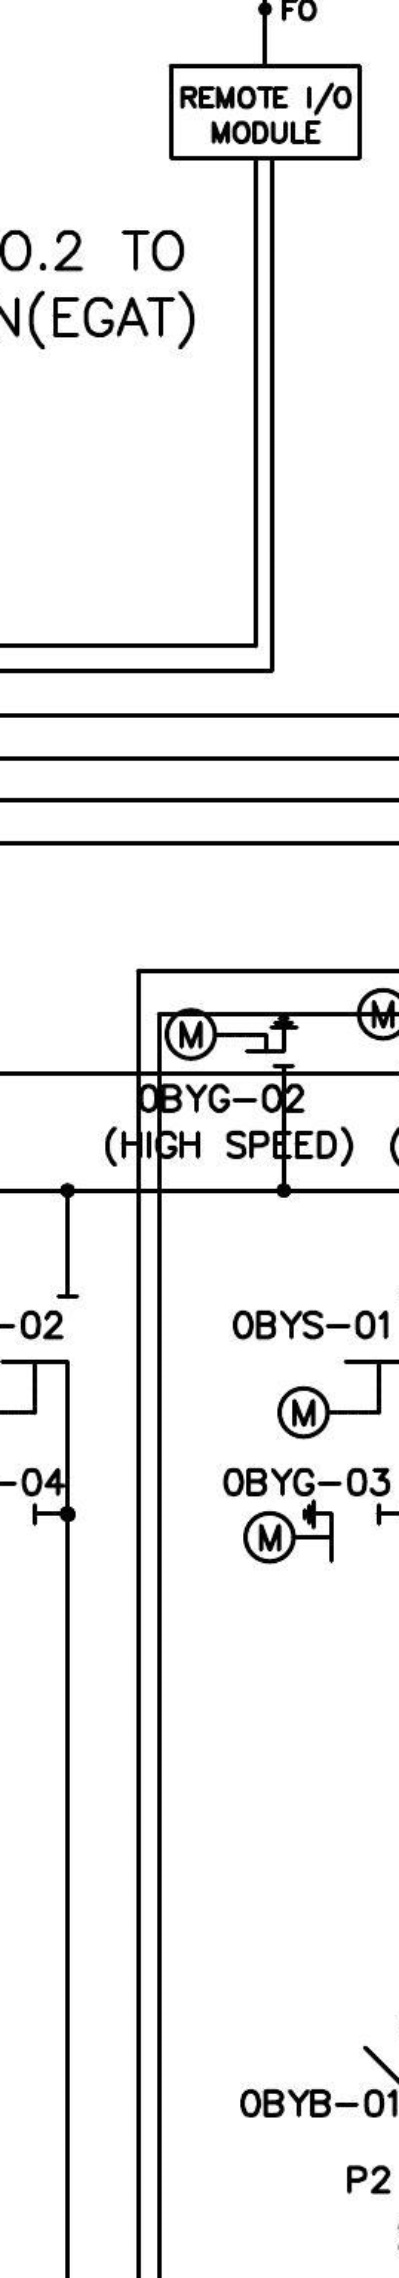115_gs_w_motor: (242, 1498, 382, 1565), (164, 1007, 300, 1069)
remote_io_module: (168, 64, 363, 161)
